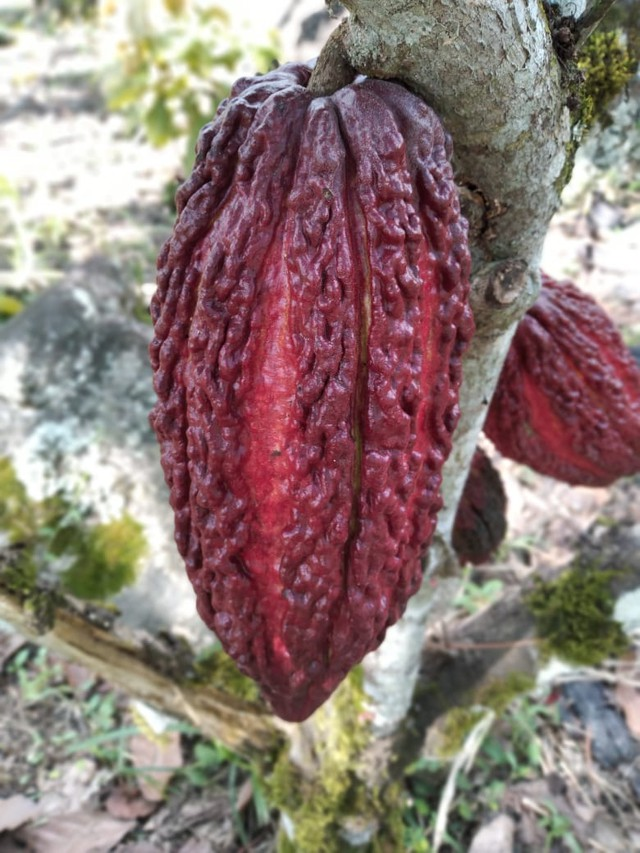Health: (139, 44, 485, 733)
